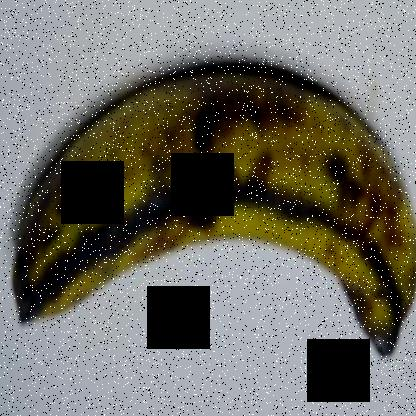overripe: (4, 53, 416, 376)
rotten: (158, 148, 279, 250)
